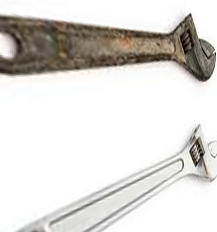wrench: (13, 120, 217, 232)
